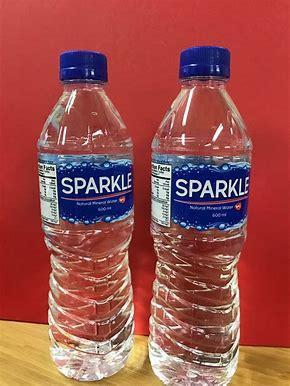plastic_bottle: (148, 41, 257, 385), (33, 47, 139, 385)
